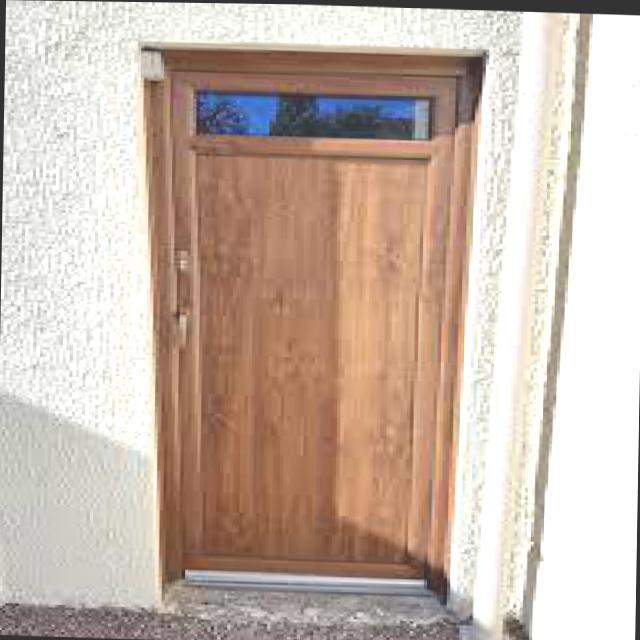close: (118, 22, 482, 614)
